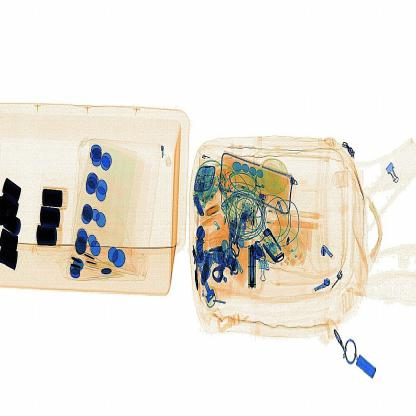scissors: (246, 241, 263, 290)
